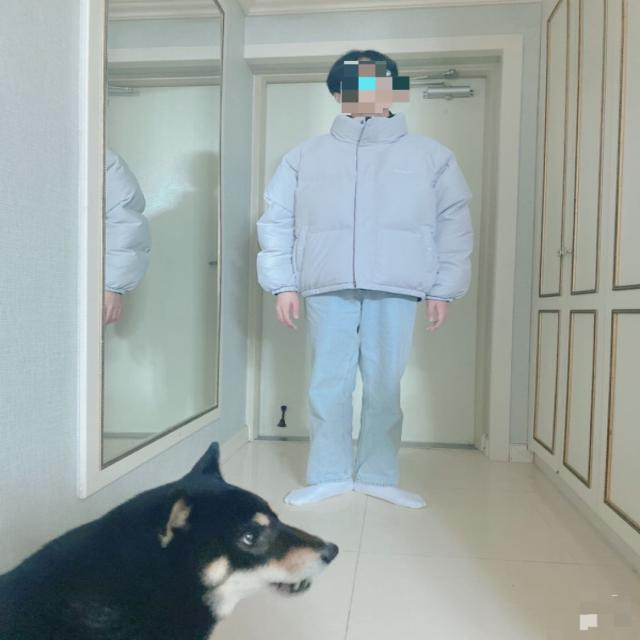denimpants: (304, 290, 417, 487)
padding: (254, 115, 473, 302)
